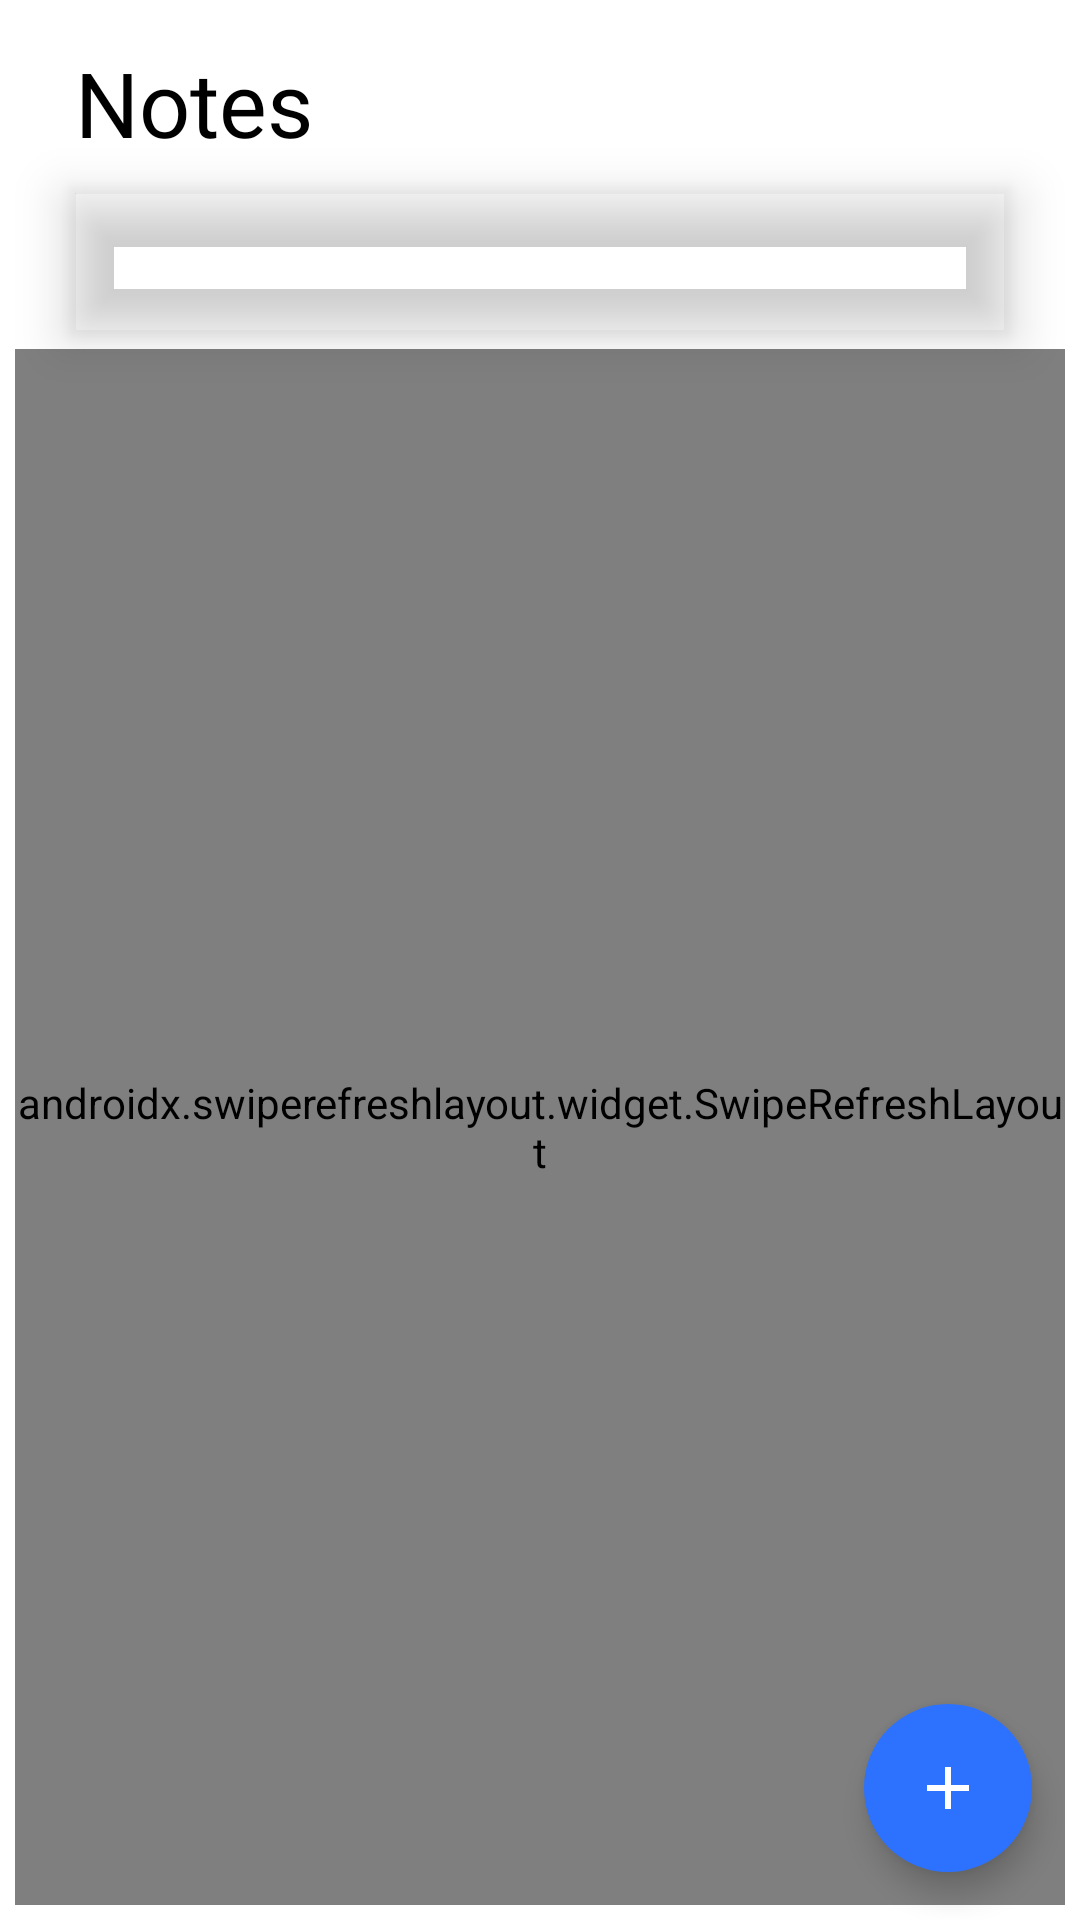

Where to tap for icons on this 1080px x 1920px app screen, as point (x, y):
Add a Note: point (948, 1788)
